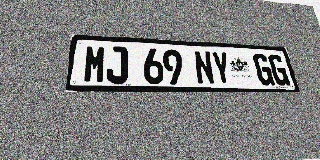6: (143, 48, 164, 84)
9: (163, 49, 184, 84)
G: (252, 53, 275, 85), (267, 54, 290, 86)
J: (106, 46, 128, 84)
M: (83, 45, 107, 83)
N: (193, 50, 215, 85)
Y: (211, 51, 233, 85)
